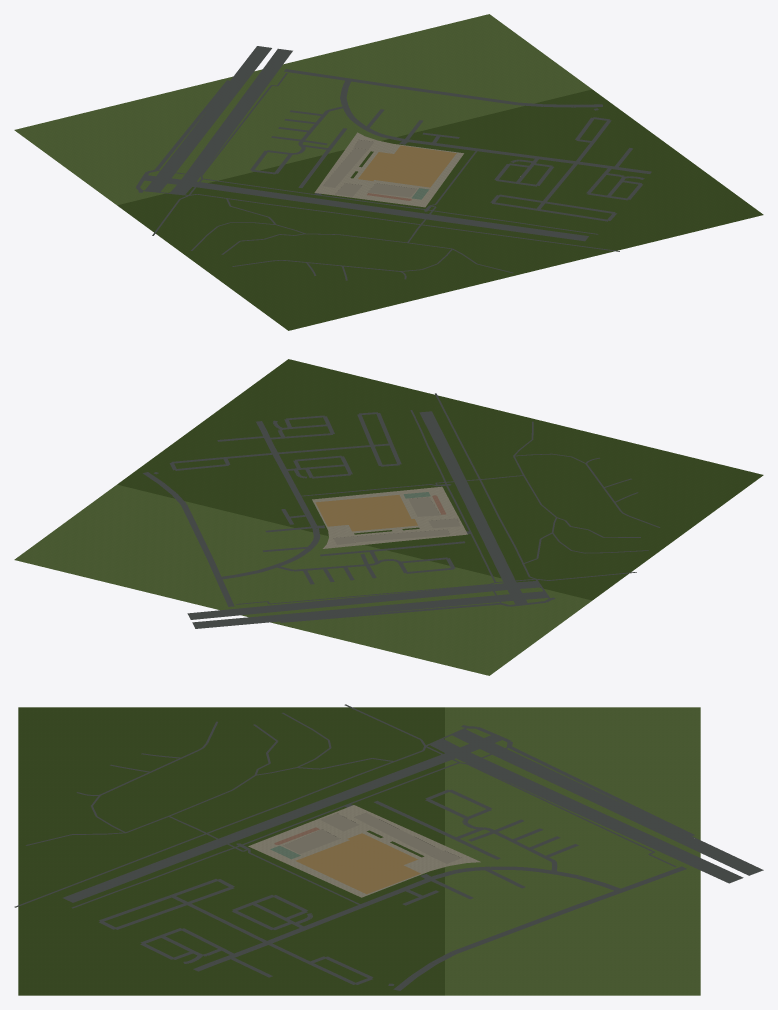
3 renders of one model, top to bottom at view 1: azimuth 30°, elevation 25°; view 2: azimuth 150°, elevation 25°; view 3: azimuth 270°, elevation 25°, orthographic. The views are drawn at different scales.
Parts seen in each view (by area): view 1: context-ground__garden-lawn, context-ground__context-forest-ground, context-road-surface__context-asphalt, campus-paved-court__site-paving, field-surface__field-earth, under-building-wing1__stand-concrete; view 2: context-ground__garden-lawn, context-ground__context-forest-ground, context-road-surface__context-asphalt, campus-paved-court__site-paving, field-surface__field-earth, under-building-wing1__stand-concrete; view 3: context-ground__garden-lawn, context-ground__context-forest-ground, context-road-surface__context-asphalt, campus-paved-court__site-paving, field-surface__field-earth, under-building-wing1__stand-concrete, under-building-hall2__stand-concrete.
Part boxes in pixels (left/top/right/bottom): context-ground__garden-lawn: left=117, top=89, right=763, bottom=330; context-ground__context-forest-ground: left=14, top=14, right=591, bottom=205; context-road-surface__context-asphalt: left=136, top=46, right=651, bottom=280; campus-paved-court__site-paving: left=314, top=132, right=463, bottom=207; field-surface__field-earth: left=358, top=145, right=456, bottom=187; under-building-wing1__stand-concrete: left=323, top=148, right=367, bottom=187; context-ground__garden-lawn: left=117, top=359, right=763, bottom=600; context-ground__context-forest-ground: left=14, top=484, right=591, bottom=675; context-road-surface__context-asphalt: left=143, top=393, right=660, bottom=628; campus-paved-court__site-paving: left=312, top=486, right=467, bottom=548; field-surface__field-earth: left=315, top=495, right=417, bottom=531; under-building-wing1__stand-concrete: left=352, top=529, right=449, bottom=542; context-ground__garden-lawn: left=18, top=707, right=444, bottom=995; context-ground__context-forest-ground: left=445, top=707, right=700, bottom=995; context-road-surface__context-asphalt: left=14, top=704, right=763, bottom=990; campus-paved-court__site-paving: left=248, top=805, right=480, bottom=897; field-surface__field-earth: left=296, top=833, right=420, bottom=894; under-building-wing1__stand-concrete: left=354, top=813, right=442, bottom=856; under-building-hall2__stand-concrete: left=283, top=829, right=339, bottom=853.
Bounding box in the file's own units: 517 × 0.08 × 563.
Materials: 8 (8 with a texture image).
